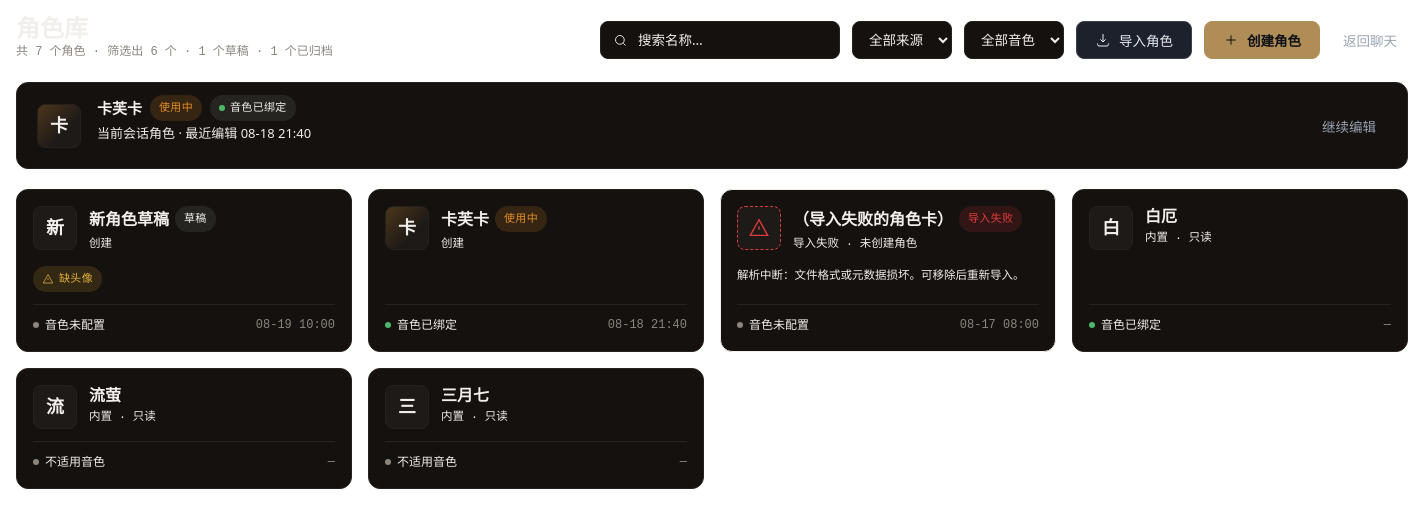
Test: CharacterLibraryPage › 筛选 › 按来源筛选「builtin」只显示符合条件的卡
The width and height of the screenshot is (1425, 506).
Select "内置" in the dropdown named "按来源筛选" at (902, 40), box 852,21 -> 952,59
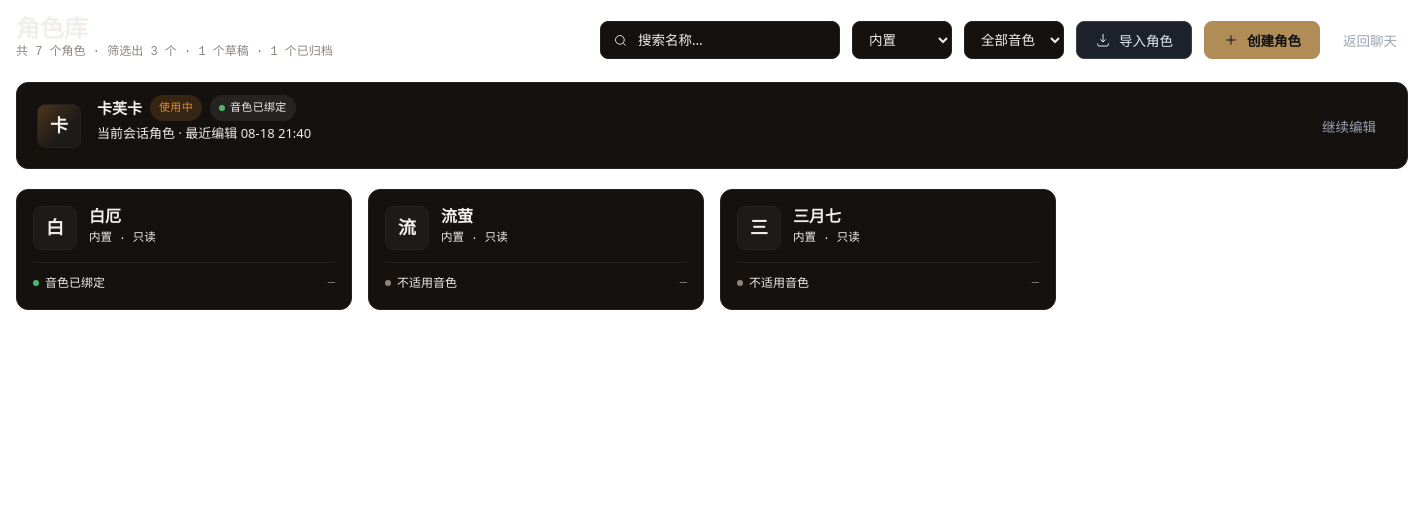
Expected: the element with test id "char-card-card-saved-002" is gone
